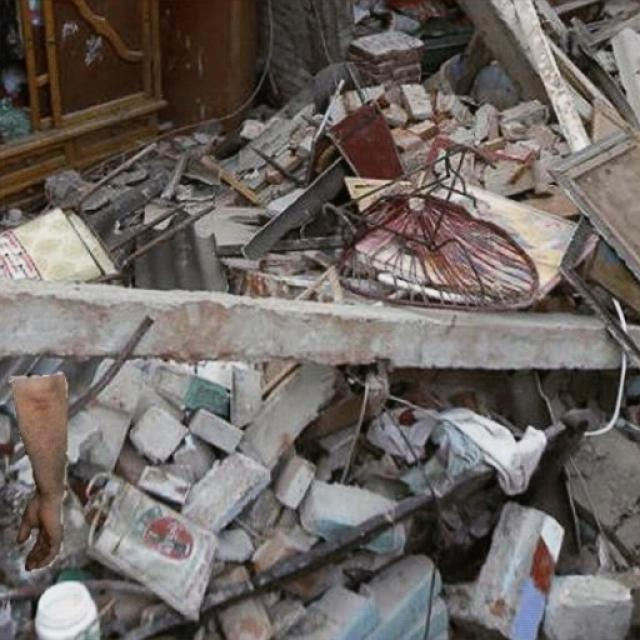Person in Rubble: (8, 372, 66, 570)
